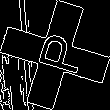P_W: (26, 30, 84, 80)
